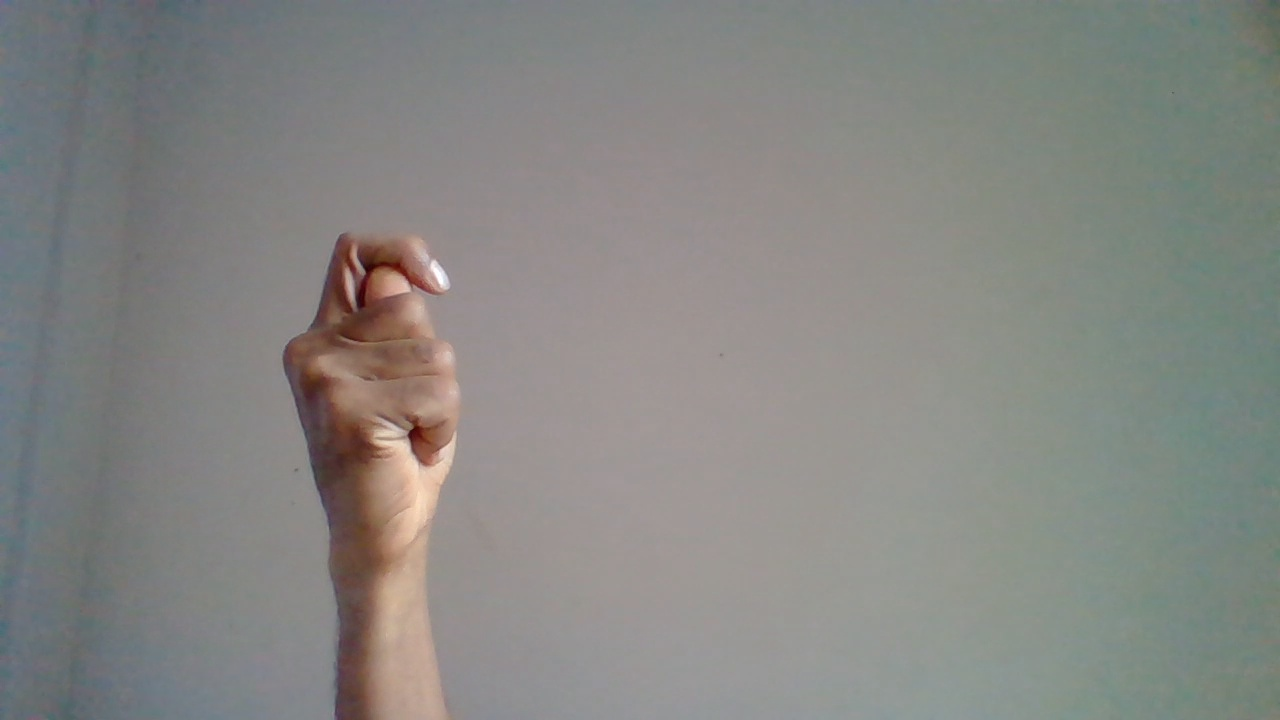che: (281, 228, 473, 683)
